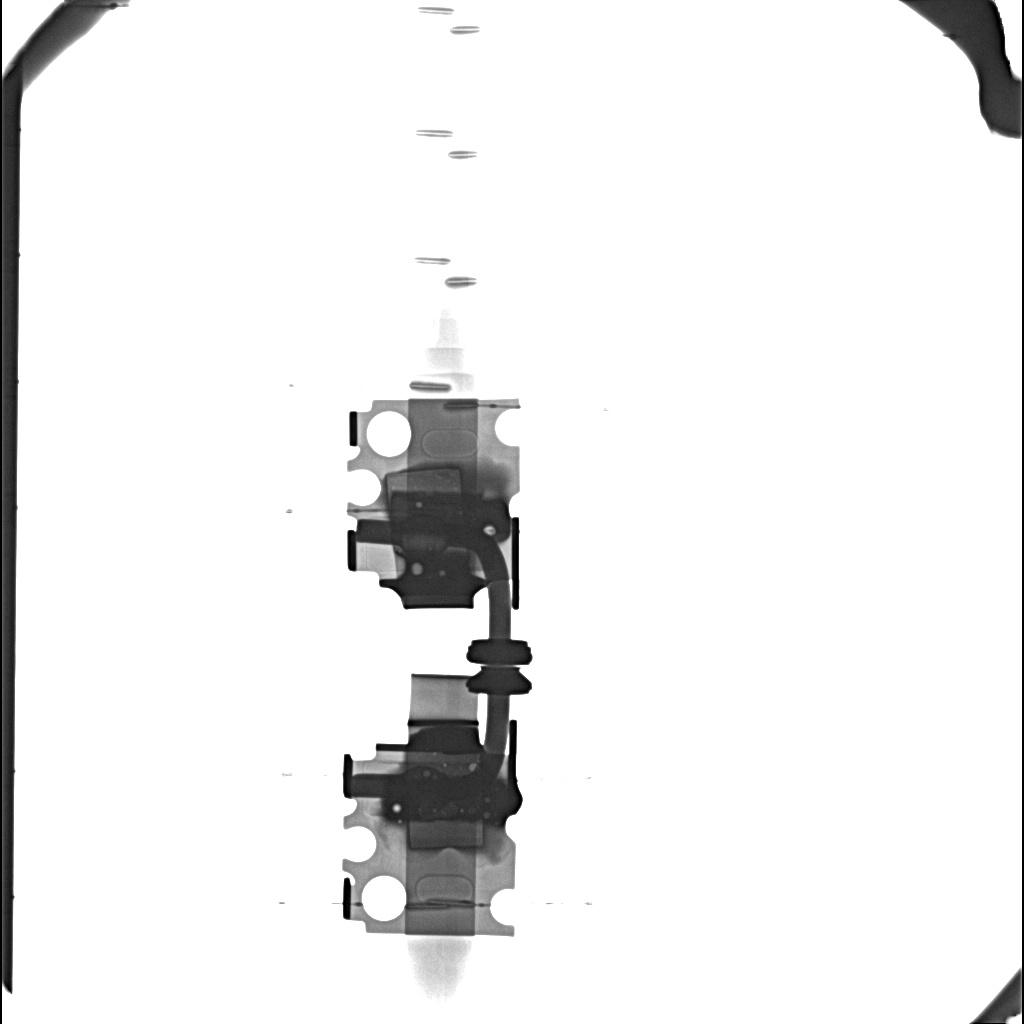PX: (384, 465, 464, 492), (407, 824, 486, 851)
QP: (411, 562, 423, 576)
SX: (389, 493, 511, 542), (385, 776, 509, 824)
